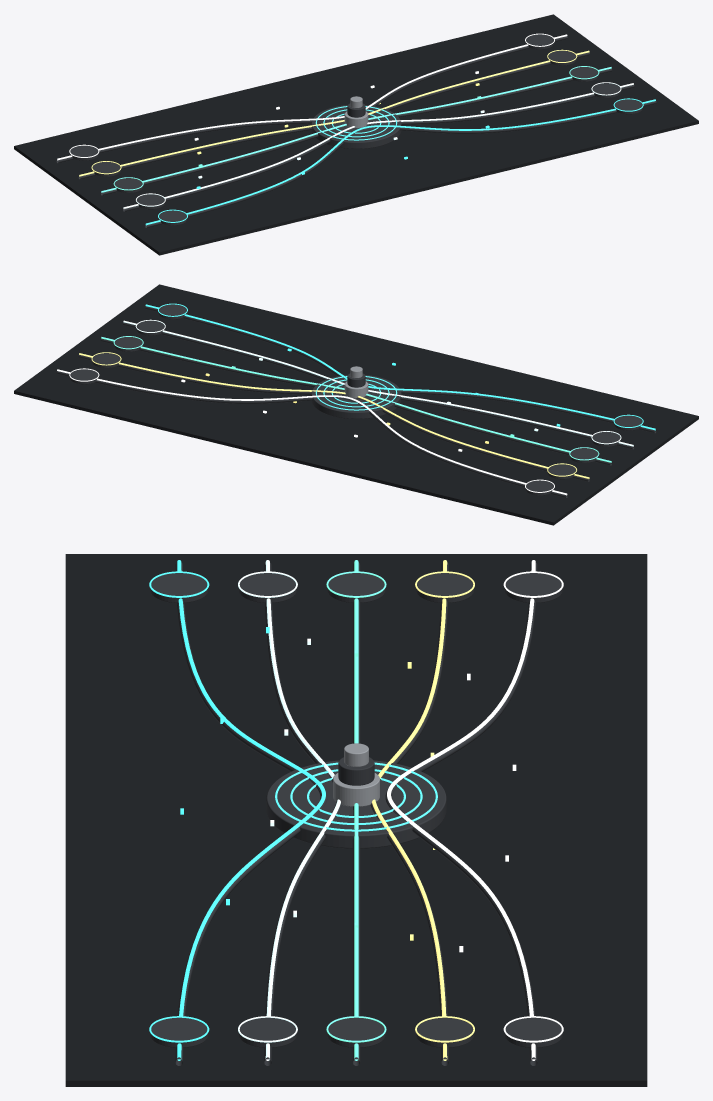
Rendered from payment_rails.glb.
3 views of the same model, one above another, from view 1: azimuth 30°, elevation 25°; view 2: azimuth 150°, elevation 25°; view 3: azimuth 270°, elevation 25° (orthographic). The views are drawn at different scales.
Visible parts, largest first — view 1: RailDeck, SettlementHub, Guide_Bank, Guide_Local, Guide_Card, Guide_Crypto, Guide_UPI, Rail_Bank, Rail_Card, Rail_Local, Rail_Crypto, Rail_UPI; view 2: RailDeck, SettlementHub, Guide_Local, Guide_Bank, Guide_Crypto, Guide_UPI, Guide_Card, Rail_Local, Rail_Crypto, Rail_Bank, Rail_Card, Rail_UPI; view 3: RailDeck, SettlementHub, Rail_Local, Rail_Bank, Guide_Local, Guide_Bank, Guide_UPI, Rail_Crypto, Rail_Card, Rail_UPI, Guide_Crypto, Guide_Card (+12 smaller).
Part boxes in pixels (left/top/right/bottom): RailDeck: left=14, top=14, right=698, bottom=255; SettlementHub: left=311, top=105, right=401, bottom=148; Guide_Bank: left=145, top=101, right=656, bottom=227; Guide_Local: left=56, top=36, right=567, bottom=163; Guide_Card: left=123, top=84, right=634, bottom=211; Guide_Crypto: left=78, top=52, right=589, bottom=179; Guide_UPI: left=100, top=68, right=612, bottom=195; Rail_Bank: left=145, top=99, right=655, bottom=225; Rail_Card: left=123, top=83, right=633, bottom=208; Rail_Local: left=57, top=34, right=567, bottom=160; Rail_Crypto: left=79, top=50, right=589, bottom=176; Rail_UPI: left=101, top=67, right=611, bottom=192; RailDeck: left=14, top=284, right=698, bottom=525; SettlementHub: left=311, top=375, right=401, bottom=418; Guide_Local: left=56, top=371, right=567, bottom=497; Guide_Bank: left=145, top=306, right=656, bottom=433; Guide_Crypto: left=78, top=354, right=589, bottom=481; Guide_UPI: left=100, top=338, right=612, bottom=465; Guide_Card: left=123, top=322, right=634, bottom=449; Rail_Local: left=57, top=369, right=567, bottom=495; Rail_Crypto: left=79, top=353, right=589, bottom=478; Rail_Bank: left=145, top=304, right=655, bottom=430; Rail_Card: left=123, top=320, right=633, bottom=446; Rail_UPI: left=101, top=337, right=611, bottom=462; RailDeck: left=65, top=554, right=647, bottom=1086; SettlementHub: left=266, top=760, right=446, bottom=848; Rail_Local: left=387, top=560, right=535, bottom=1060; Rail_Bank: left=177, top=560, right=325, bottom=1060; Guide_Local: left=385, top=563, right=537, bottom=1065; Guide_Bank: left=175, top=563, right=327, bottom=1065; Guide_UPI: left=352, top=563, right=360, bottom=1065; Rail_Crypto: left=372, top=560, right=447, bottom=1060; Rail_Card: left=265, top=560, right=340, bottom=1060; Rail_UPI: left=354, top=560, right=358, bottom=1060; Guide_Crypto: left=370, top=563, right=448, bottom=1065; Guide_Card: left=264, top=563, right=342, bottom=1065.
Size of the model in its own units: 18 by 1.2 by 8.4.
